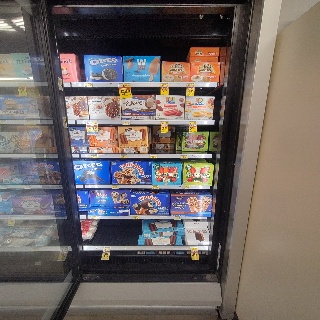All PRICE TAGS: (23, 120, 35, 125), (118, 83, 130, 87), (85, 121, 97, 125), (160, 82, 169, 87), (103, 246, 111, 251), (160, 120, 168, 125), (17, 82, 25, 87), (190, 247, 198, 251), (111, 185, 119, 189), (180, 154, 188, 158), (120, 154, 128, 158), (188, 120, 196, 124), (122, 121, 130, 125), (84, 83, 92, 87), (90, 154, 97, 158), (132, 215, 139, 219), (152, 185, 159, 189), (150, 154, 157, 158), (0, 185, 7, 189), (187, 83, 194, 87), (183, 185, 189, 189), (206, 120, 212, 124), (8, 216, 14, 220), (90, 216, 97, 219), (25, 185, 31, 188), (174, 217, 182, 219)
